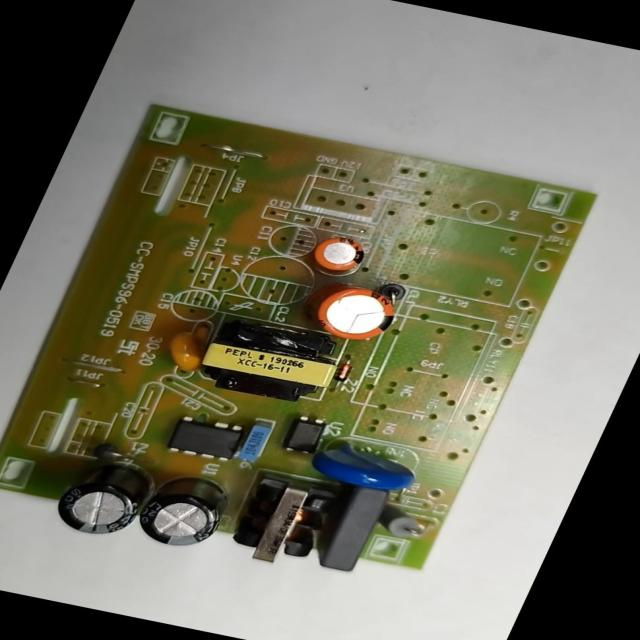Cap1: (307, 277, 408, 345)
Cap2: (308, 231, 372, 274)
Cap3: (127, 473, 236, 555)
Cap4: (47, 461, 154, 542)
MOSFET: (163, 412, 249, 465)
Mov: (301, 435, 426, 495)
Resistor: (373, 501, 429, 541)
Transformer: (188, 318, 347, 410), (224, 473, 343, 572)
